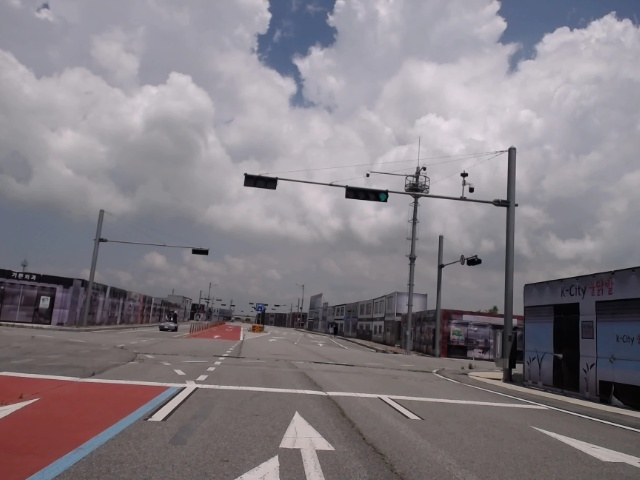straight_green_4: (344, 187, 390, 201)
